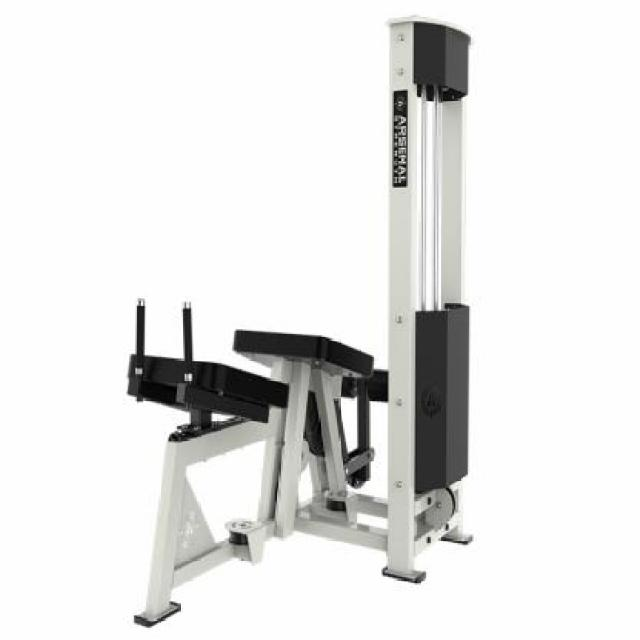reg curl machine: (128, 17, 475, 626)
